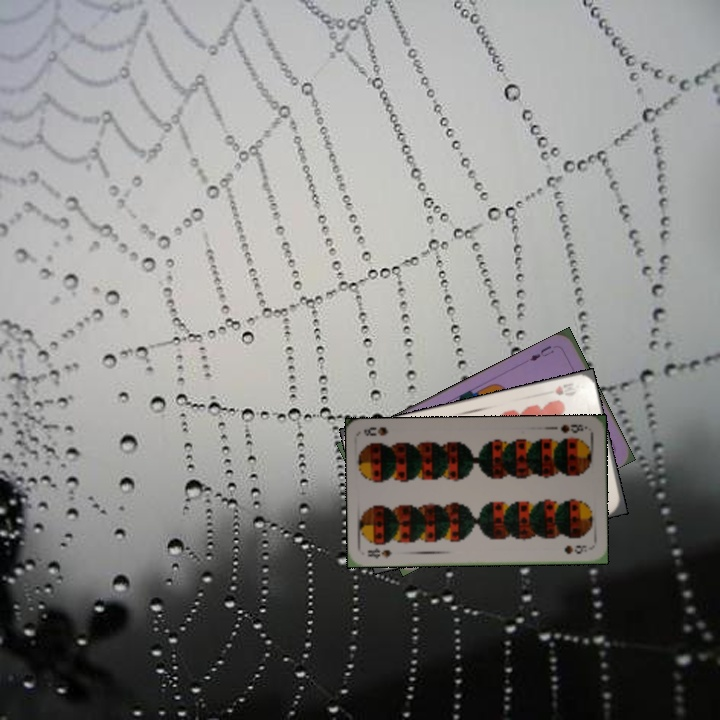EU: (526, 341, 556, 364)
H10: (551, 379, 580, 398)
S8: (557, 420, 590, 436), (363, 544, 394, 561)
